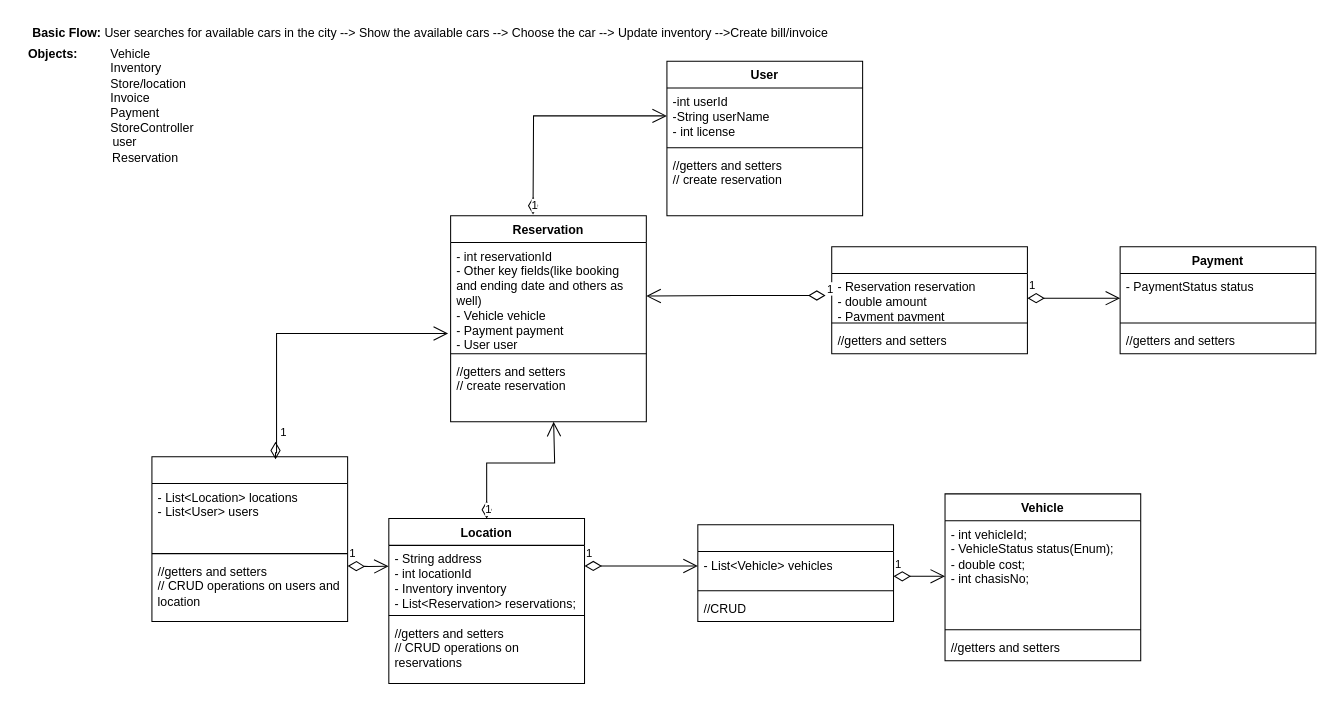
Some shapes in this 1334 by 703 pixel diagram are drawn without their labels. The box of each missing label's shape, as (x1, y1, x2, y2) in pixels:
Bill: (831, 246, 1027, 354)
CarRentalSystem: (151, 456, 348, 622)
Inventory: (697, 524, 894, 622)
